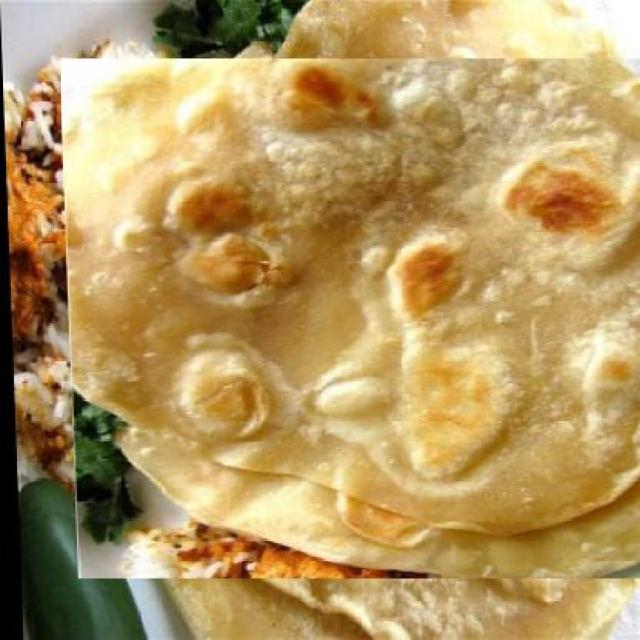chapati: (86, 28, 639, 612)
